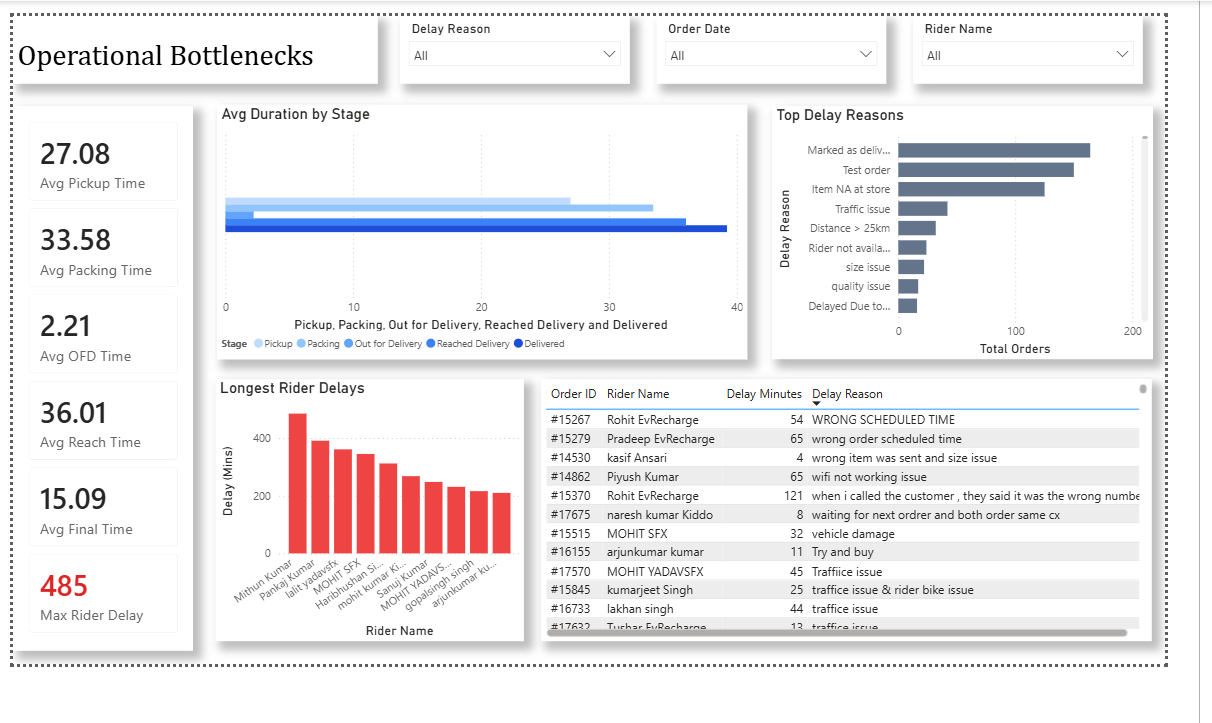

Layout of this report page (visuals, bound fields, positions):
{"tool":"powerbi","page":{"name":"Operational Bottlenecks","canvas":[1280,720],"ordinal":2},"visuals":[{"type":"textbox","box":[0,0,405,75],"z":0},{"type":"cardVisual","fields":{"Data":["_Measures.Avg Picked Up Duration (Min)","_Measures.Avg Packing Duration (Min)","_Measures.Avg Out for Delivery Duration (Min)","_Measures.Avg Reached Delivery Duration (Min)","_Measures.Avg Delivered Duration (Min)","_Measures.Longest Rider Delay (Min)"]},"box":[0,100,200,605],"z":1000},{"type":"slicer","fields":{"Values":["Orders.Order Date.Variation.Date Hierarchy.Year"]},"box":[715,0,255,75.6],"z":2000},{"type":"slicer","fields":{"Values":["Orders.Delay Reason"]},"box":[430,0,255,75.6],"z":3000},{"type":"slicer","fields":{"Values":["Orders.Rider Name"]},"box":[1000,0,255,75.6],"z":4000},{"type":"clusteredColumnChart","title":"Longest Rider Delays","fields":{"Category":["Orders.Rider Name"],"Y":["_Measures.Longest Rider Delay (Min)"]},"box":[224.3,402.9,342.9,291.4],"z":5000},{"type":"clusteredBarChart","title":"Top Delay Reasons","fields":{"Category":["Orders.Delay Reason"],"Y":["_Measures.Total Orders"]},"box":[843.1,100,423.1,281.5],"z":6000},{"type":"tableEx","fields":{"Values":["Orders.Order ID","Orders.Rider Name","Orders.Delay Minutes","Orders.Delay Reason"]},"box":[587.1,402.9,678.6,291.4],"z":7000},{"type":"clusteredBarChart","title":"Avg Duration by Stage","fields":{"Y":["_Measures.Avg Picked Up Duration (Min)","_Measures.Avg Packing Duration (Min)","_Measures.Avg Out for Delivery Duration (Min)","_Measures.Avg Reached Delivery Duration (Min)","_Measures.Avg Delivered Duration (Min)"]},"box":[226.2,98.5,589.2,283.1],"z":8000}]}

Visuals, with their boxes on the page's 1280x720 design canvas (x1, y1, x2, y2). These are canvas units, not pixel positions in the 1212x723 screenshot, which may show the page scaled, cropped or inside an application window:
textbox: [0,0,405,75]
cardVisual - _Measures.Avg Picked Up Duration (Min) x _Measures.Avg Packing Duration (Min): [0,100,200,705]
slicer - Orders.Order Date.Variation.Date Hierarchy.Year: [715,0,970,76]
slicer - Orders.Delay Reason: [430,0,685,76]
slicer - Orders.Rider Name: [1000,0,1255,76]
"Longest Rider Delays" clusteredColumnChart: [224,403,567,694]
"Top Delay Reasons" clusteredBarChart: [843,100,1266,382]
tableEx - Orders.Order ID x Orders.Rider Name: [587,403,1266,694]
"Avg Duration by Stage" clusteredBarChart: [226,98,815,382]
